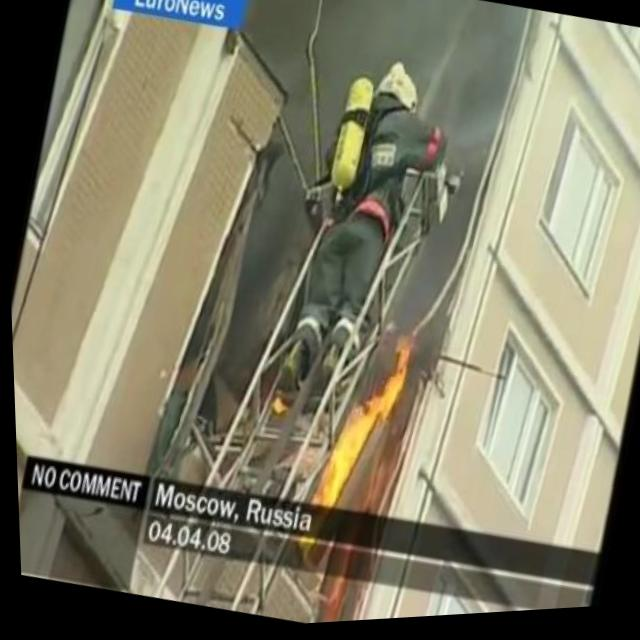fire: (304, 328, 423, 525), (263, 394, 290, 421)
